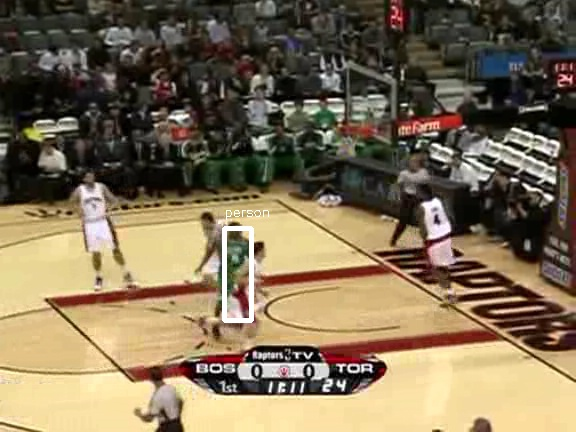person: (218, 227, 252, 308), (217, 227, 251, 308), (219, 227, 253, 308), (218, 226, 252, 307), (218, 228, 252, 309)
target_negative: (228, 96, 475, 352), (147, 256, 400, 335), (187, 383, 430, 416), (507, 364, 528, 432), (499, 391, 529, 422), (546, 395, 553, 418)
